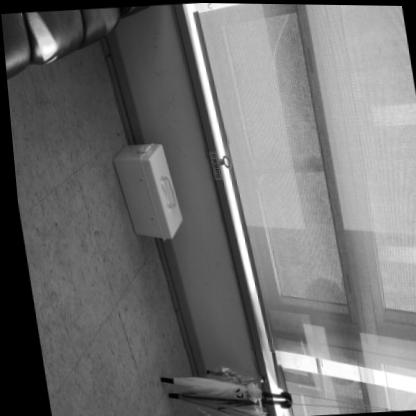DDL: (106, 141, 182, 243)
